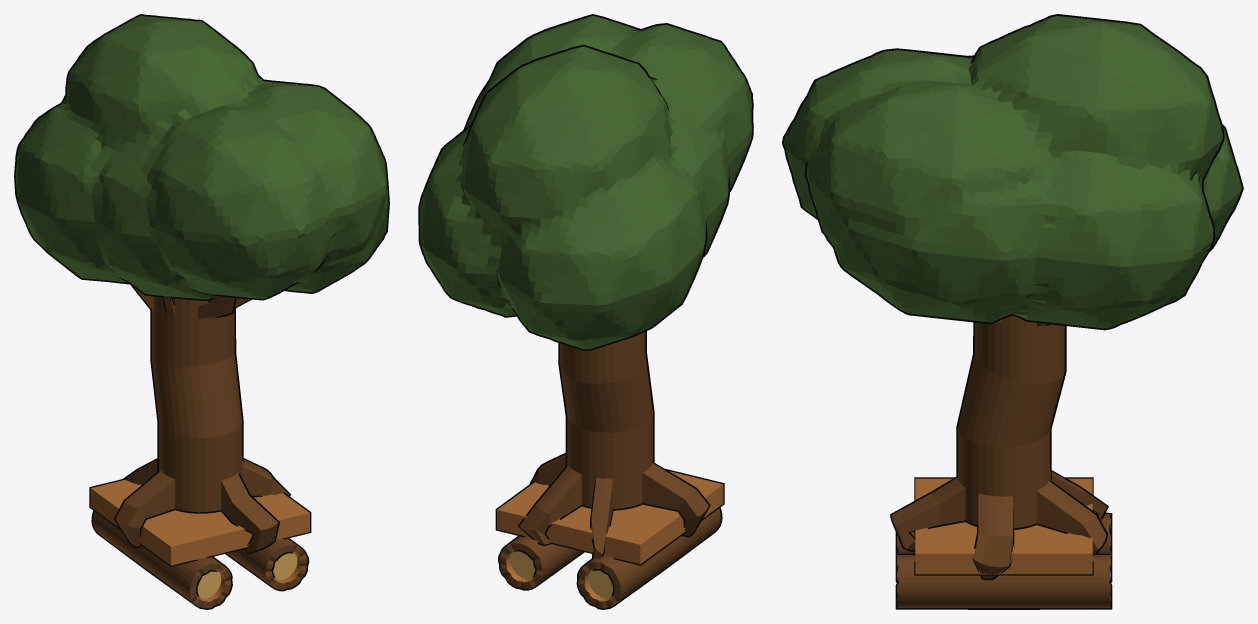
File: Boss_Tree.fbx
3 views of the same model, side by side, from view 1: azimuth 30°, elevation 25°; view 2: azimuth 150°, elevation 25°; view 3: azimuth 270°, elevation 25° (orthographic). The views are drawn at different scales.
Parts seen in each view (by area): view 1: Kart, Pneus.001, Pneus; view 2: Kart, Pneus.001, Pneus; view 3: Kart, Pneus.
Part boxes in pixels (left/top/right/bottom): Kart: left=14, top=14, right=389, bottom=566; Pneus.001: left=91, top=511, right=232, bottom=609; Pneus: left=225, top=538, right=309, bottom=591; Kart: left=418, top=14, right=753, bottom=565; Pneus.001: left=576, top=507, right=722, bottom=609; Pneus: left=498, top=536, right=584, bottom=590; Kart: left=782, top=14, right=1243, bottom=580; Pneus: left=895, top=553, right=1112, bottom=609.
Size of the model in its own units: 1005 by 746 by 1355.
